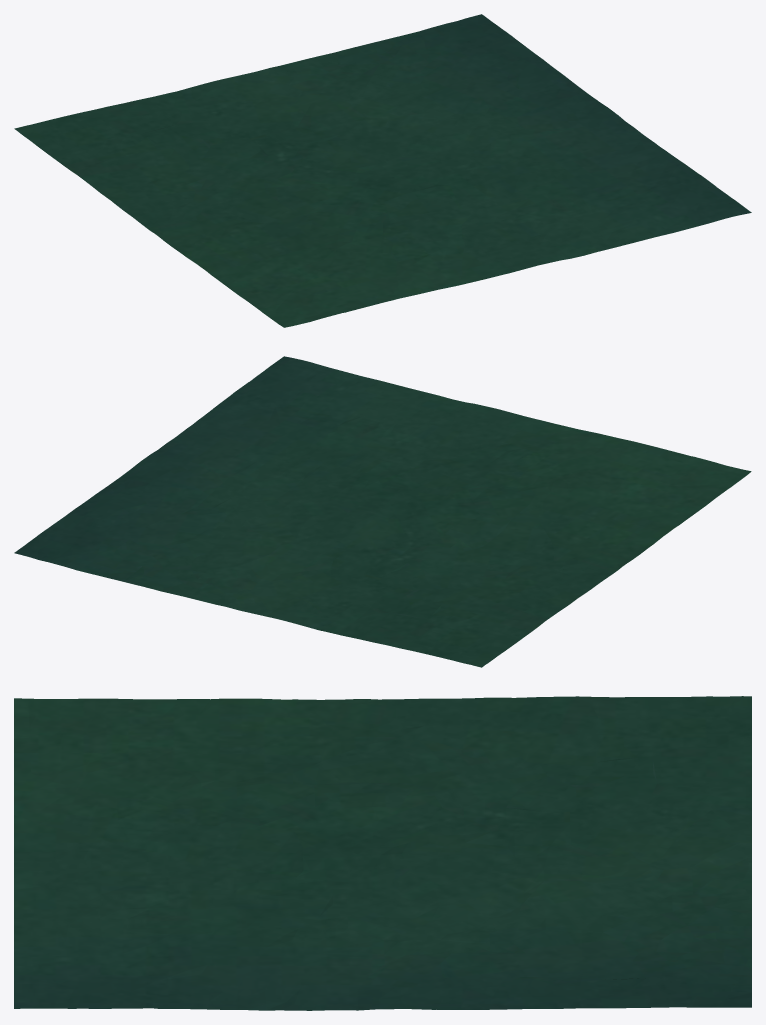
The picture shows the model from 3 angles, top to bottom: view 1: azimuth 30°, elevation 25°; view 2: azimuth 150°, elevation 25°; view 3: azimuth 270°, elevation 25°; orthographic projection. The views are drawn at different scales.
Size of the model in its own units: 104 by 0.7981 by 104.
2 materials, 2 textured.
